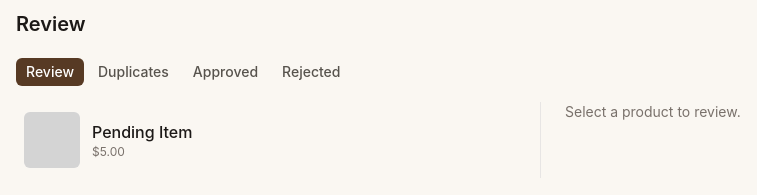
ReviewPage › switches tabs to show approved products
Expected: the text "Pending Item" is shown, [92,122,192,142]
Click the tab "Approved".
click(225, 72)  # box [183,58,268,86]
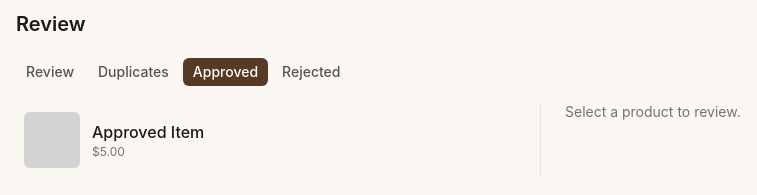
Expected: the text "Approved Item" is shown, [92,122,204,142]
Expected: the button "Pending Item" is gone
